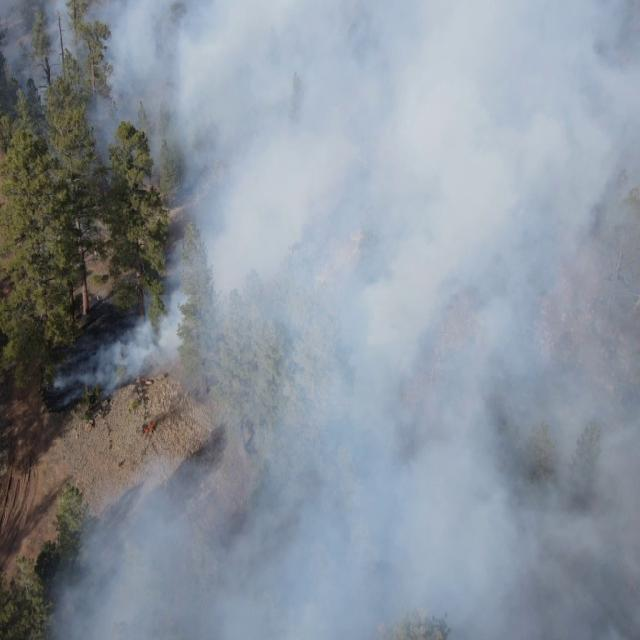smoke: (170, 0, 640, 640), (1, 0, 171, 190), (47, 461, 171, 640), (48, 271, 172, 409), (136, 418, 159, 442)
